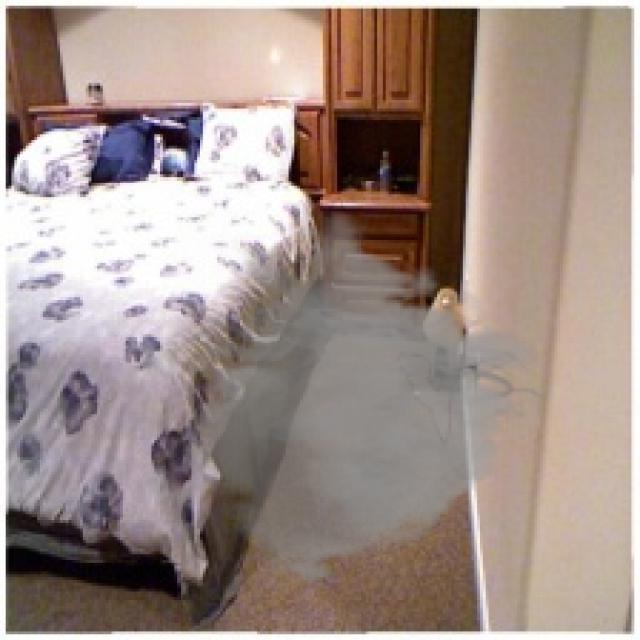Smoke: (148, 208, 552, 586)
